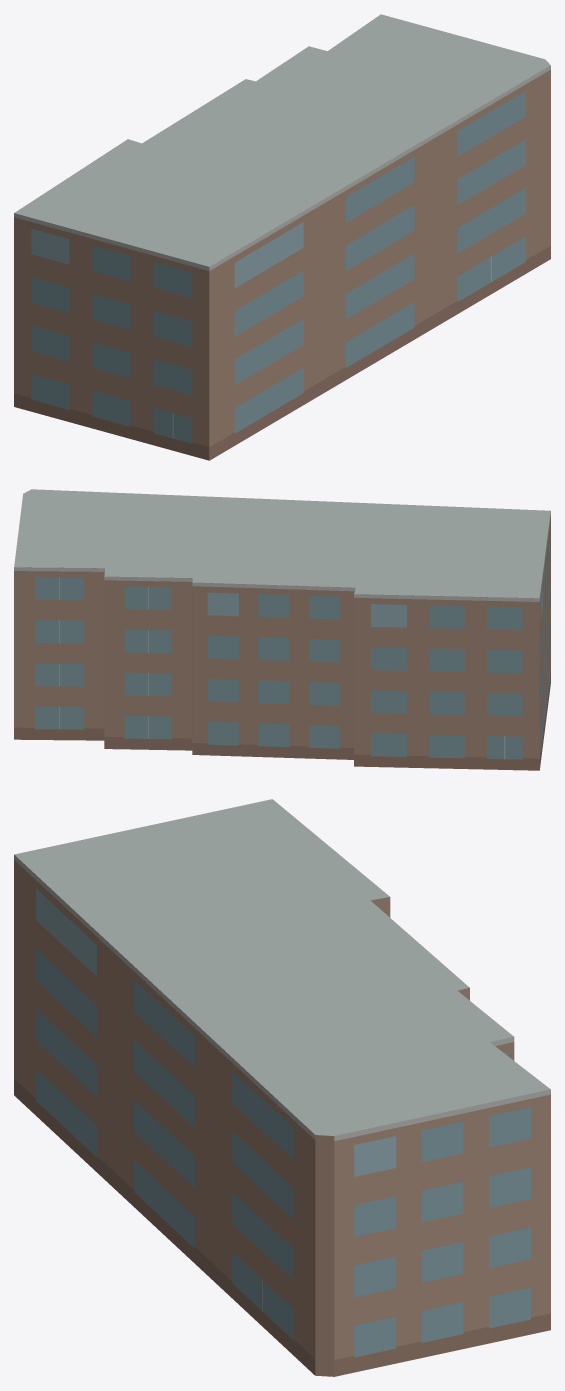
Rendered from survey-upis-32870785.glb.
3 renders of one model, top to bottom at view 1: azimuth 30°, elevation 25°; view 2: azimuth 150°, elevation 25°; view 3: azimuth 270°, elevation 25°, orthographic. The views are drawn at different scales.
Parts seen in each view (by area): view 1: survey-upis-32870785.tmp; view 2: survey-upis-32870785.tmp; view 3: survey-upis-32870785.tmp.
Boxes of the visible parts, box(x1,y1,x2,y2) form: survey-upis-32870785.tmp: box(14, 14, 550, 460); survey-upis-32870785.tmp: box(14, 489, 550, 770); survey-upis-32870785.tmp: box(14, 799, 550, 1376).
Bounding box in the file's own units: 33.93 × 11.3 × 22.84.
